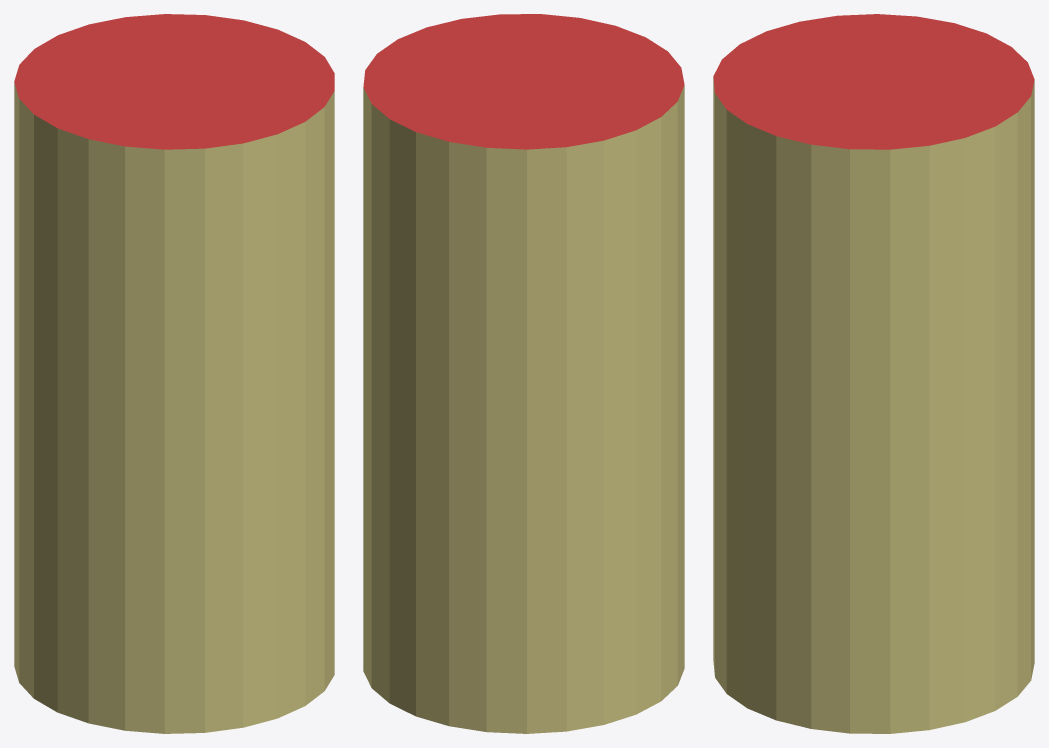
3 renders of one model, left to right at view 1: azimuth 30°, elevation 25°; view 2: azimuth 150°, elevation 25°; view 3: azimuth 270°, elevation 25°, orthographic.
Size of the model in its own units: 3.76 by 3.76 by 7.54.
